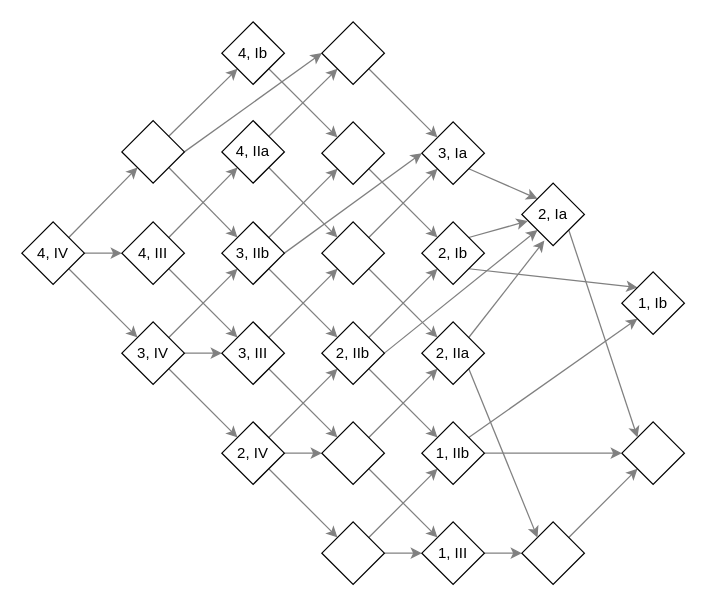
Some shapes in this 706 by 606 pixel diagram are drawn without their labels. The shapes that lost their labels are listed below. From the top down, each one's centre as x and y in pixels, then its label:
(352,52): 4, Ia
(152,151): 4, IIb
(352,152): 3, Ib
(352,252): 3, IIa
(352,452): 2, III
(652,452): 1, Ia
(352,552): 1, IV
(552,552): 1, IIa
